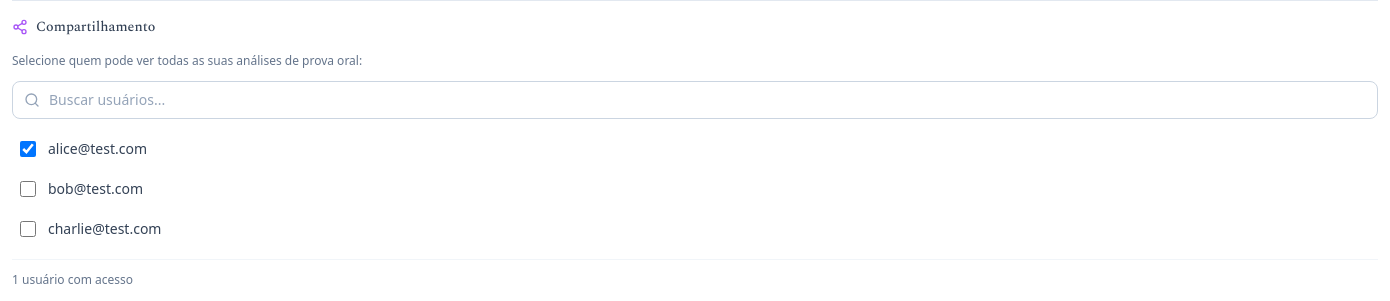
SharingSection › Search Filter › should filter users by search query
This screenshot has width=1390, height=301.
Expected: the number of checkboxes is 3, [20,141,36,157]; [20,181,36,197]; [20,221,36,237]
Type "alice" into the field with placeholder "Buscar usuários...". click: (695, 100)
box: [12,81,1378,119]
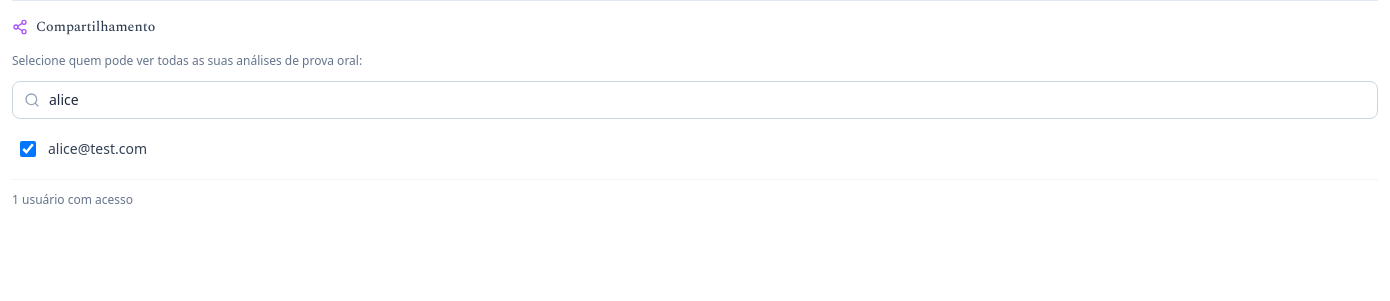
Expected: the text "alice@test.com" is shown, [48,139,147,159]
Result: the number of checkboxes is 1 at [20,141,36,157]
